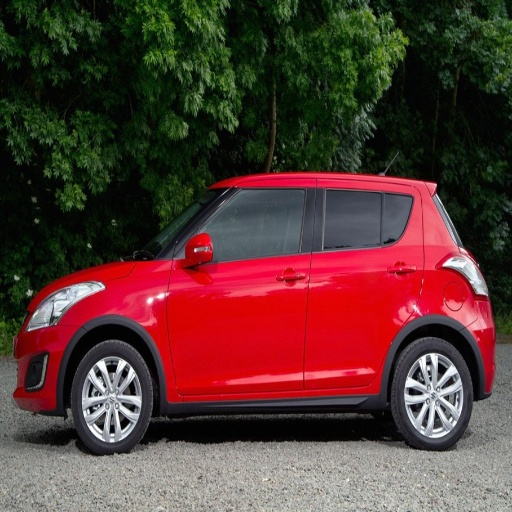back_left_door: (305, 182, 420, 390)
front_left_door: (169, 181, 315, 396)
